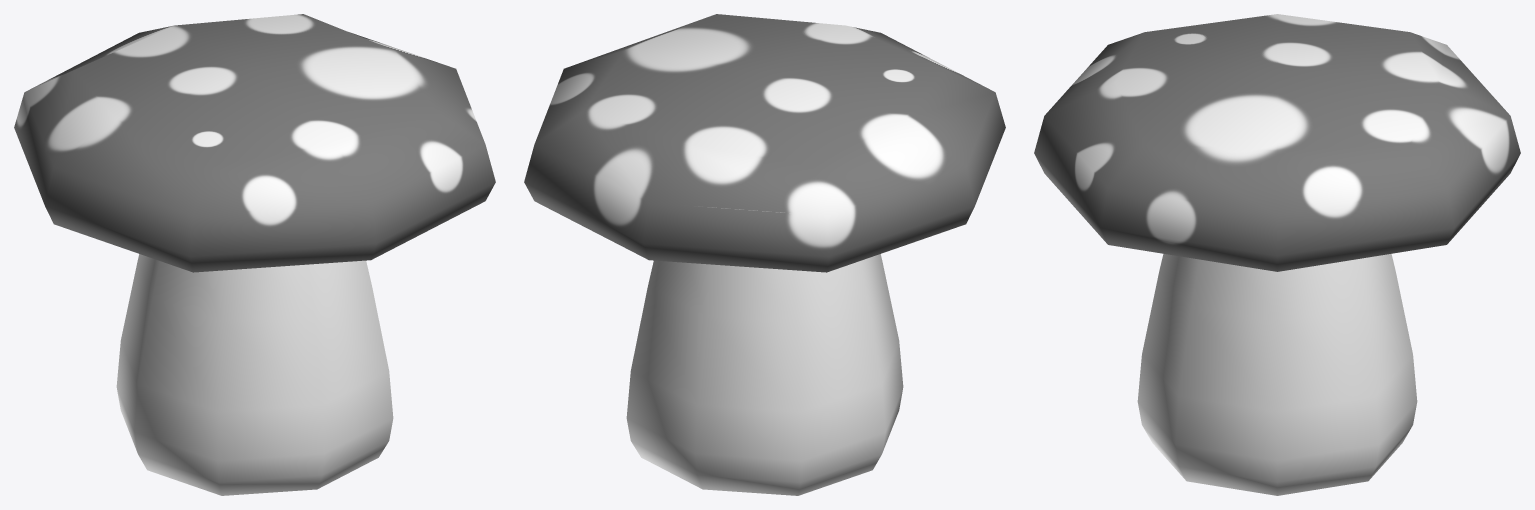
Rendered from mushroom01.fbx.
3 renders of one model, left to right at view 1: azimuth 30°, elevation 25°; view 2: azimuth 150°, elevation 25°; view 3: azimuth 270°, elevation 25°, orthographic.
Visible parts, largest first — view 1: Mushroom; view 2: Mushroom; view 3: Mushroom.
Part boxes in pixels (<box>): Mushroom: <box>14,14,495,495</box>; Mushroom: <box>524,14,1005,495</box>; Mushroom: <box>1034,14,1520,495</box>.
Bounding box in the file's own units: 209 × 185 × 209.
